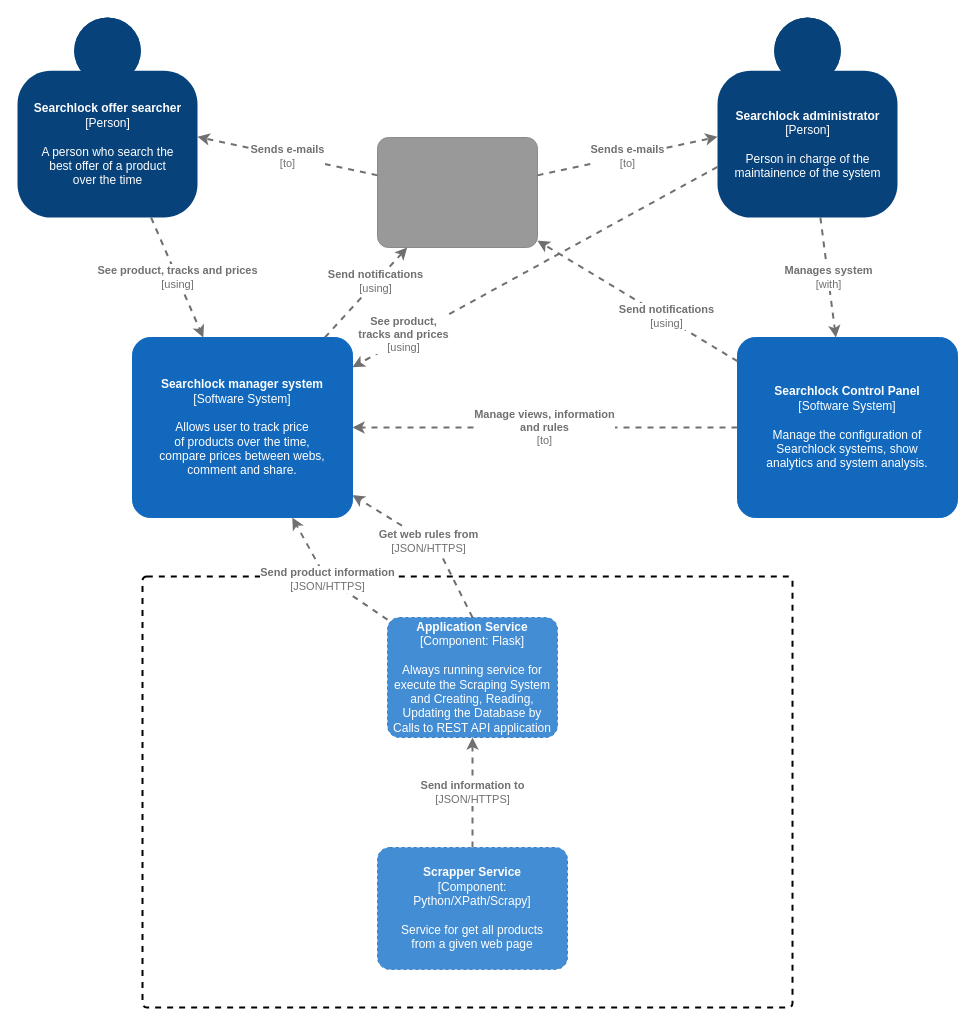
The diagram is 975 pixels wide and 1025 high, and some of its shapes have lost their labels. Here are the shapes that lost their labels. From the top down, the box of each, then its label:
(376, 136, 538, 248): Email system [Software System] Email manager for notifications and user Auth
(141, 575, 793, 1008): Searchlock scrapper system [software system V1.0.0]
